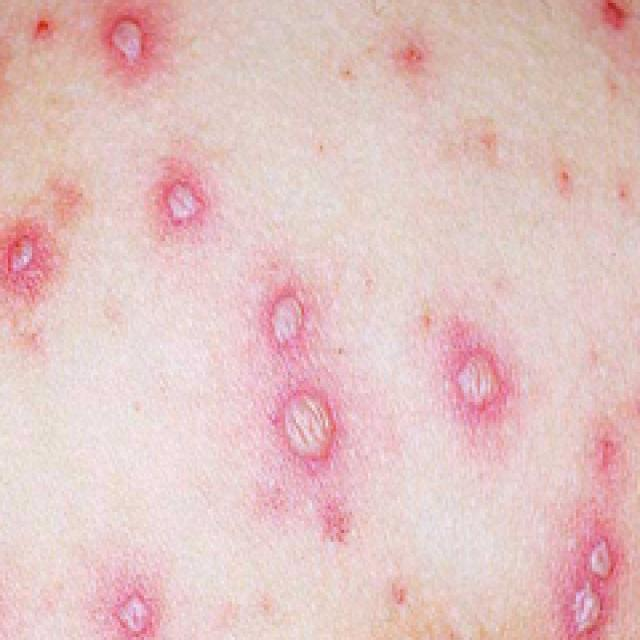kan emici bocekler: (537, 513, 630, 635), (257, 364, 353, 477), (430, 326, 524, 430), (137, 144, 220, 242), (249, 263, 324, 364), (92, 570, 172, 638)
